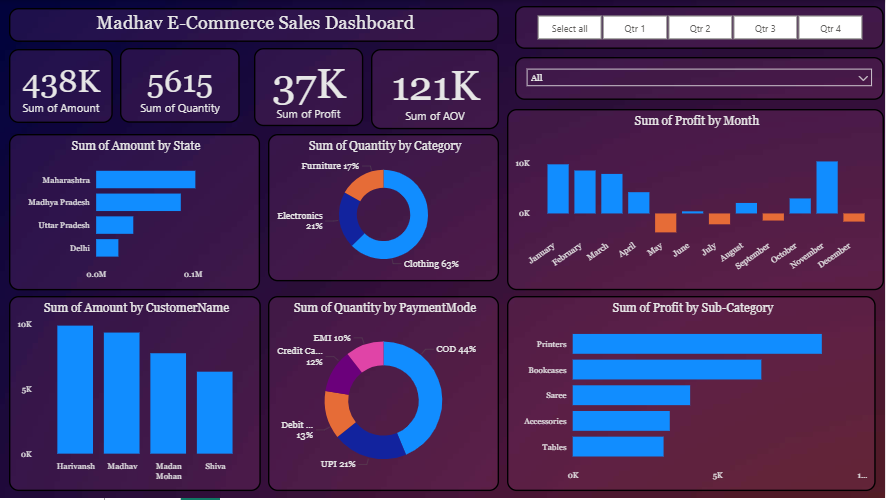

The dashboard page shown, as its layout file describes it:
{"tool":"powerbi","page":{"name":"Page 1","canvas":[1280,720],"ordinal":0},"visuals":[{"type":"columnChart","fields":{"Y":["Details.Profit"],"Category":["Orders.Order Date.Variation.Date Hierarchy.Month"]},"box":[734.5,157.6,545.1,261.7],"z":1000},{"type":"barChart","fields":{"Category":["Details.Sub-Category"],"Y":["Details.Profit"]},"box":[734.5,428,533.5,281.9],"z":2000},{"type":"donutChart","fields":{"Y":["Details.Quantity"],"Category":["Details.PaymentMode"]},"box":[388.9,428,334,281.9],"z":3000},{"type":"donutChart","fields":{"Category":["Details.Category"],"Y":["Details.Quantity"]},"box":[388.9,193.7,334,225.5],"z":4000},{"type":"card","fields":{"Values":["Details.Amount"]},"box":[14.5,70.8,150.4,107],"z":5000},{"type":"card","fields":{"Values":["Details.Quantity"]},"box":[174.9,69.4,173.5,108.4],"z":5001},{"type":"card","fields":{"Values":["Details.Profit"]},"box":[368.7,70.8,157.6,107],"z":5002},{"type":"card","fields":{"Values":["Details.AOV"]},"box":[542.2,70.8,180.7,107],"z":5003},{"type":"barChart","fields":{"Category":["Orders.State"],"Y":["Details.Amount"]},"box":[14.5,193.7,362.9,225.5],"z":5004},{"type":"columnChart","fields":{"Category":["Orders.CustomerName"],"Y":["Details.Amount"]},"box":[14.5,428,364.3,281.9],"z":5005},{"type":"textbox","title":"Madhav E-Commerce Sales Dashboard","box":[14.5,11.6,708.4,49.2],"z":5006},{"type":"slicer","fields":{"Values":["Orders.State"]},"box":[734.5,82.4,545.1,62.2],"z":5007},{"type":"slicer","fields":{"Values":["Orders.Order Date.Variation.Date Hierarchy.Quarter"]},"box":[734.5,8.7,545.1,62.2],"z":5008}]}

Visuals, with their boxes in screenshot pixels (x1, y1, x2, y2), scaled from the page's 1280x720 canvas onto the 886x500 screenshot:
columnChart - Details.Profit x Orders.Order Date.Variation.Date Hierarchy.Month: box=[508, 109, 885, 291]
barChart - Details.Sub-Category x Details.Profit: box=[508, 297, 878, 493]
donutChart - Details.Quantity x Details.PaymentMode: box=[269, 297, 500, 493]
donutChart - Details.Category x Details.Quantity: box=[269, 135, 500, 291]
card - Details.Amount: box=[10, 49, 114, 123]
card - Details.Quantity: box=[121, 48, 241, 123]
card - Details.Profit: box=[255, 49, 364, 123]
card - Details.AOV: box=[375, 49, 500, 123]
barChart - Orders.State x Details.Amount: box=[10, 135, 261, 291]
columnChart - Orders.CustomerName x Details.Amount: box=[10, 297, 262, 493]
"Madhav E-Commerce Sales Dashboard" textbox: box=[10, 8, 500, 42]
slicer - Orders.State: box=[508, 57, 885, 100]
slicer - Orders.Order Date.Variation.Date Hierarchy.Quarter: box=[508, 6, 885, 49]
